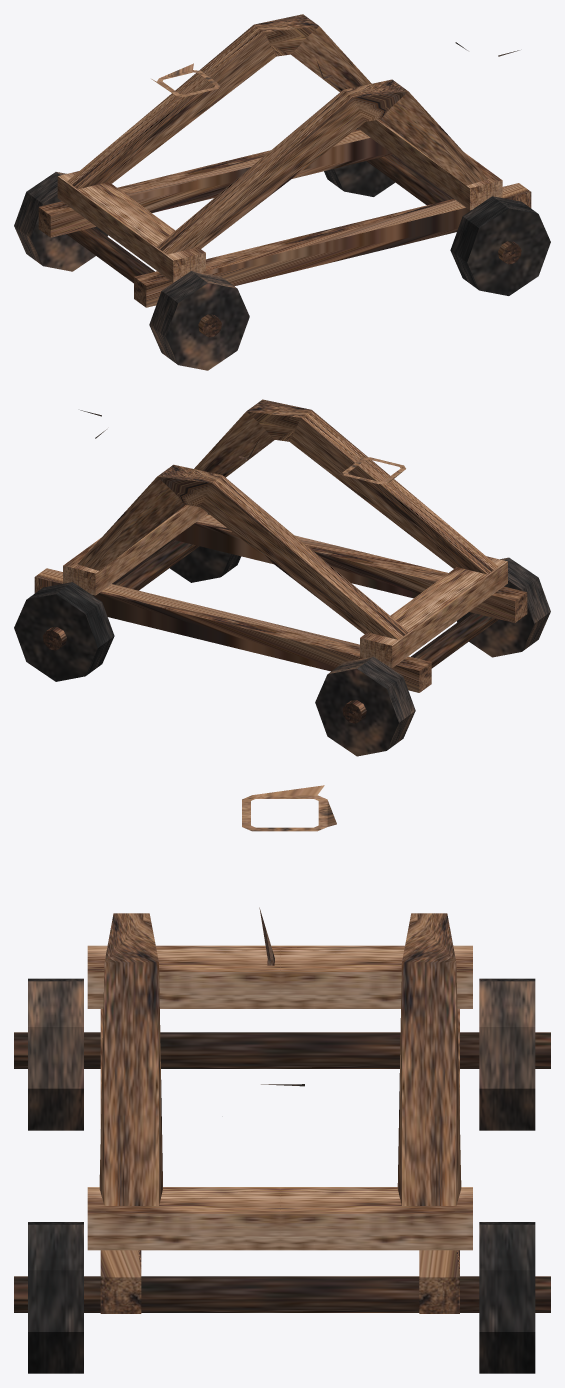
Rendered from catapulta_base.obj.
3 renders of one model, top to bottom at view 1: azimuth 30°, elevation 25°; view 2: azimuth 150°, elevation 25°; view 3: azimuth 270°, elevation 25°, orthographic. The views are drawn at different scales.
Parts seen in each view (by area): view 1: catapulta_Material.002; view 2: catapulta_Material.002; view 3: catapulta_Material.002.
Boxes of the visible parts, bbox=[...] form: catapulta_Material.002: bbox=[14, 14, 550, 370]; catapulta_Material.002: bbox=[14, 399, 550, 756]; catapulta_Material.002: bbox=[14, 785, 550, 1373].
Size of the model in its own units: 9.92 by 5.02 by 6.65.
